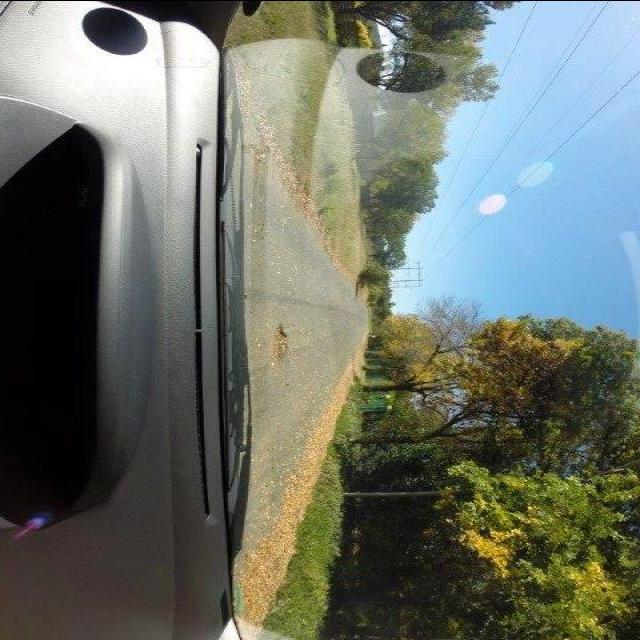lubang: (272, 320, 294, 362)
